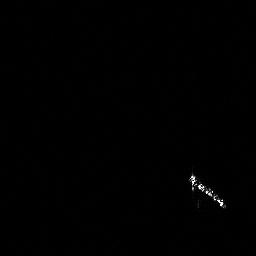ship: (186, 170, 230, 212)
